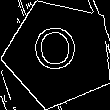O_S: (35, 26, 83, 81)
